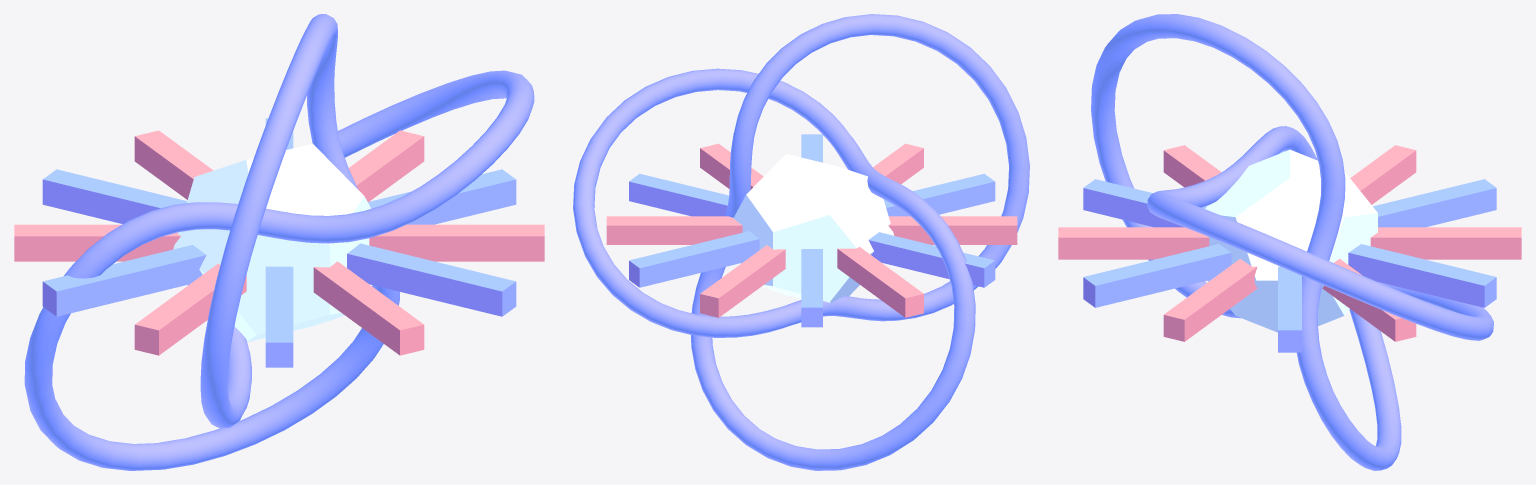
Rendered from data-bloom.glb.
The picture shows the model from 3 angles, left to right: view 1: azimuth 30°, elevation 25°; view 2: azimuth 150°, elevation 25°; view 3: azimuth 270°, elevation 25°; orthographic projection. The views are drawn at different scales.
Parts seen in each view (by area): view 1: DataBloom, core; view 2: DataBloom, core; view 3: DataBloom, core.
Boxes of the visible parts, left/top/right/bottom form: DataBloom: left=14, top=14, right=544, bottom=470; core: left=173, top=143, right=371, bottom=341; DataBloom: left=573, top=14, right=1029, bottom=470; core: left=733, top=154, right=893, bottom=303; DataBloom: left=1058, top=14, right=1521, bottom=470; core: left=1205, top=149, right=1377, bottom=332.
Bounding box in the file's own units: 3.22 × 3.18 × 3.05.
